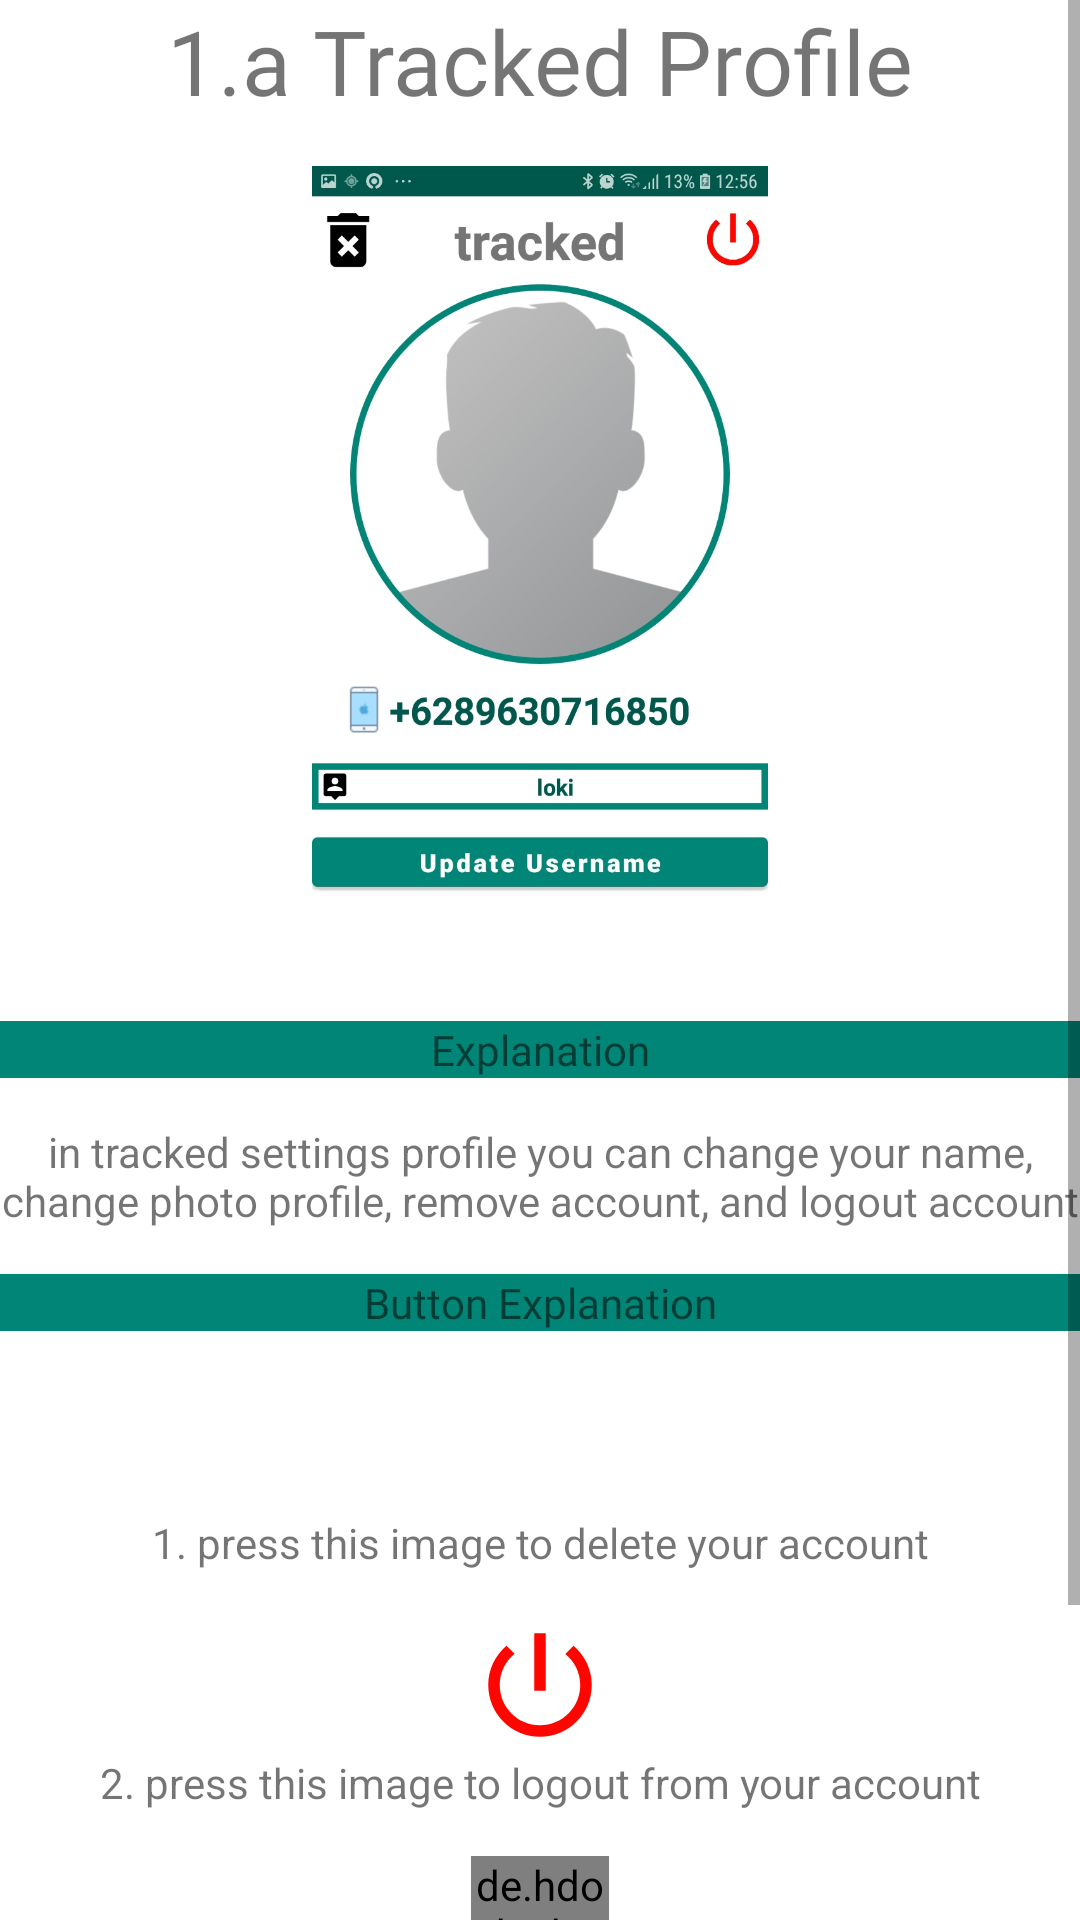

Icons on this 1080 x 1920 Android screen, each with its box as box=[x1, y1, x2, y2]:
power settings: box=[488, 1633, 592, 1737]
